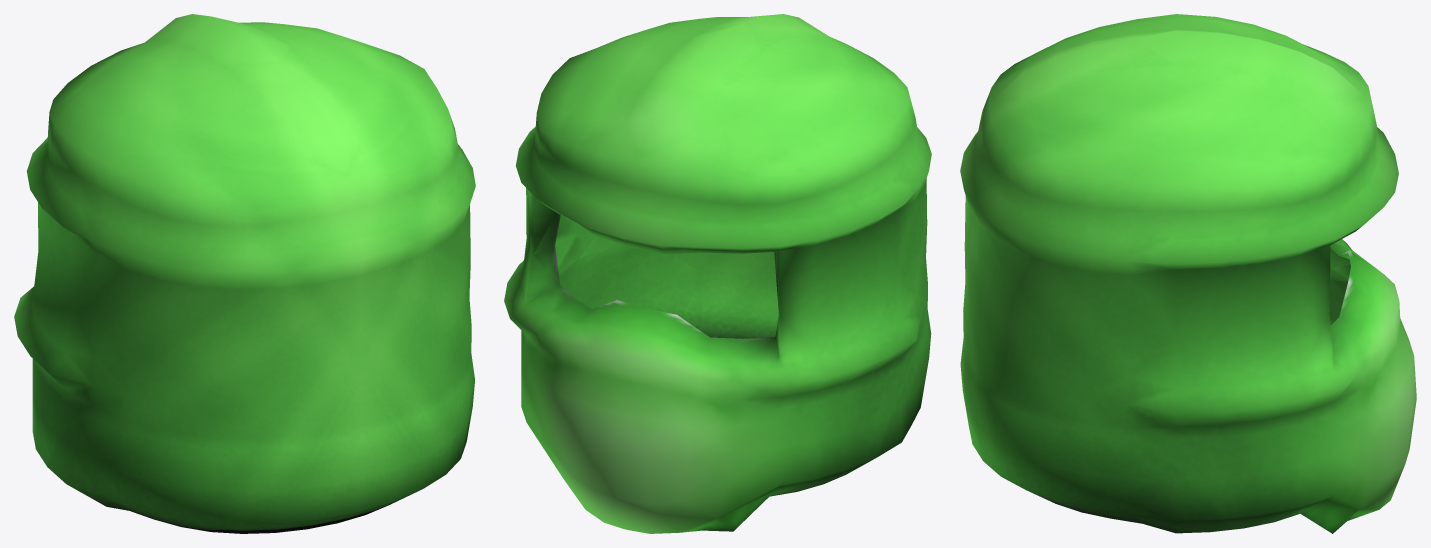
3 views of the same model, side by side, from view 1: azimuth 30°, elevation 25°; view 2: azimuth 150°, elevation 25°; view 3: azimuth 270°, elevation 25° (orthographic). The views are drawn at different scales.
Parts seen in each view (by area): view 1: Mesh; view 2: Mesh; view 3: Mesh.
Boxes of the visible parts, bbox=[...] form: Mesh: bbox=[14, 14, 475, 533]; Mesh: bbox=[504, 14, 931, 533]; Mesh: bbox=[960, 14, 1416, 533].
Size of the model in its own units: 1.48 by 1.6 by 1.43.
